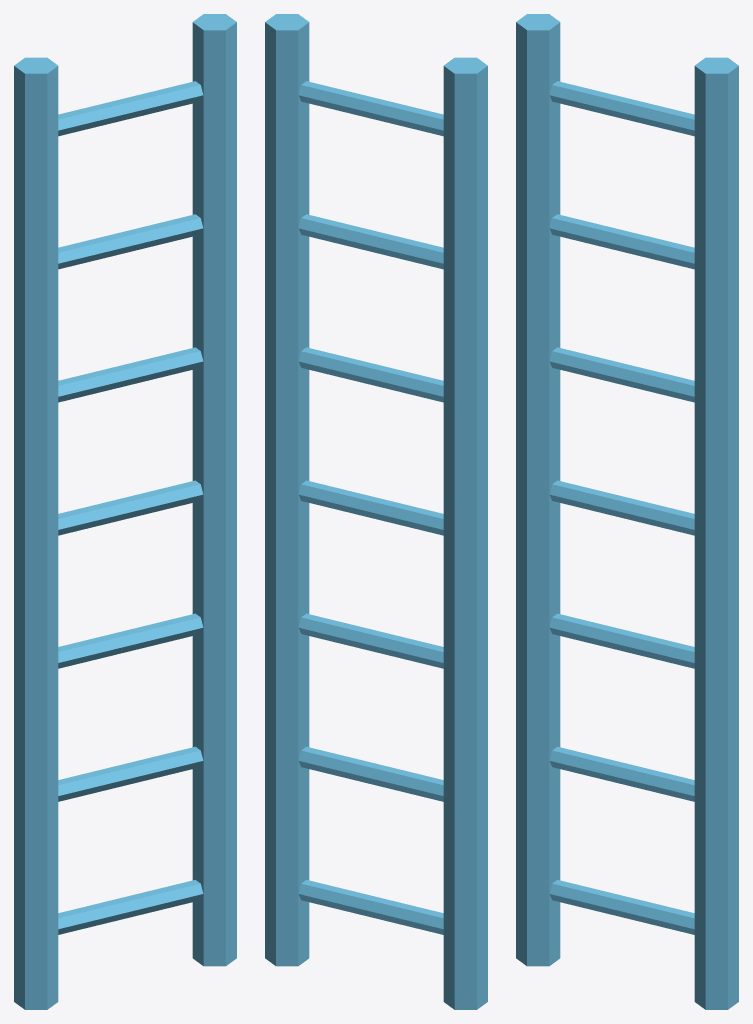
3 views of the same model, side by side, from view 1: azimuth 30°, elevation 25°; view 2: azimuth 150°, elevation 25°; view 3: azimuth 330°, elevation 25° (orthographic).
Visible parts, largest first — view 1: ladr; view 2: ladr; view 3: ladr.
Boxes of the visible parts, box(x1,y1,x2,y2) form: ladr: box(14, 14, 236, 1009); ladr: box(265, 14, 487, 1009); ladr: box(516, 14, 738, 1009).
Size of the model in its own units: 237 by 1002 by 43.04.
Materials: 1 (1 with a texture image).
